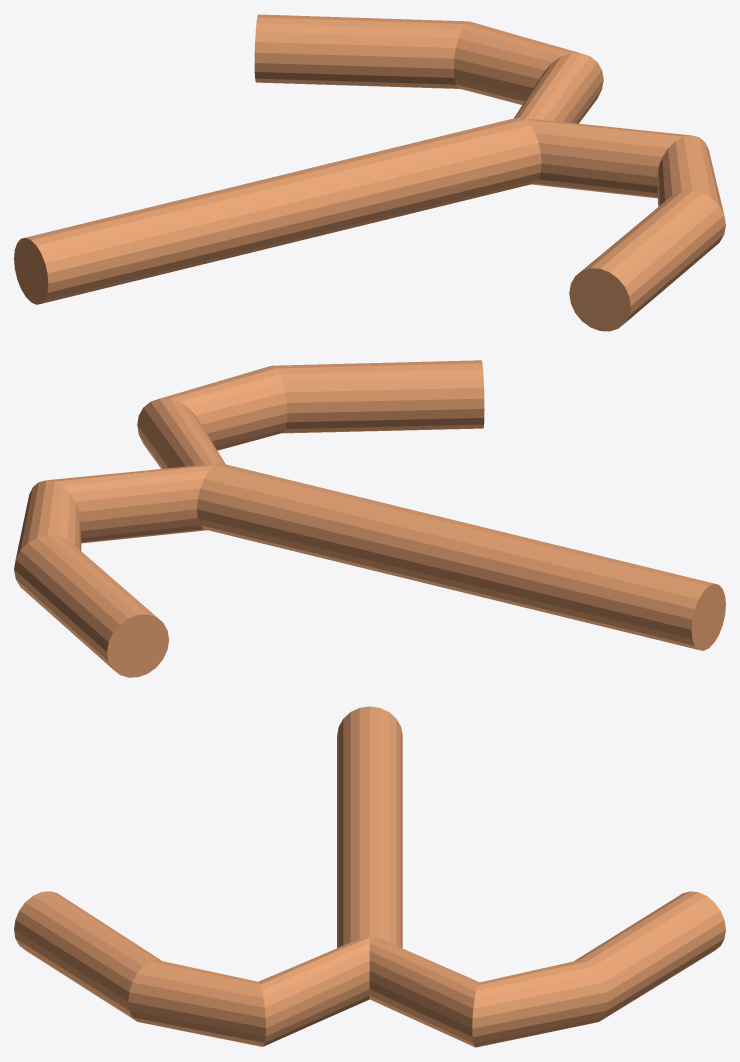
File: hook.glb
3 views of the same model, one above another, from view 1: azimuth 30°, elevation 25°; view 2: azimuth 150°, elevation 25°; view 3: azimuth 270°, elevation 25° (orthographic). The views are drawn at different scales.
Visible parts, largest first — view 1: Plane; view 2: Plane; view 3: Plane.
Boxes of the visible parts, box(x1,y1,x2,y2) form: Plane: box(14, 14, 725, 331); Plane: box(14, 360, 725, 677); Plane: box(14, 706, 725, 1047).
Size of the model in its own units: 1.26 by 0.12 by 1.3.
